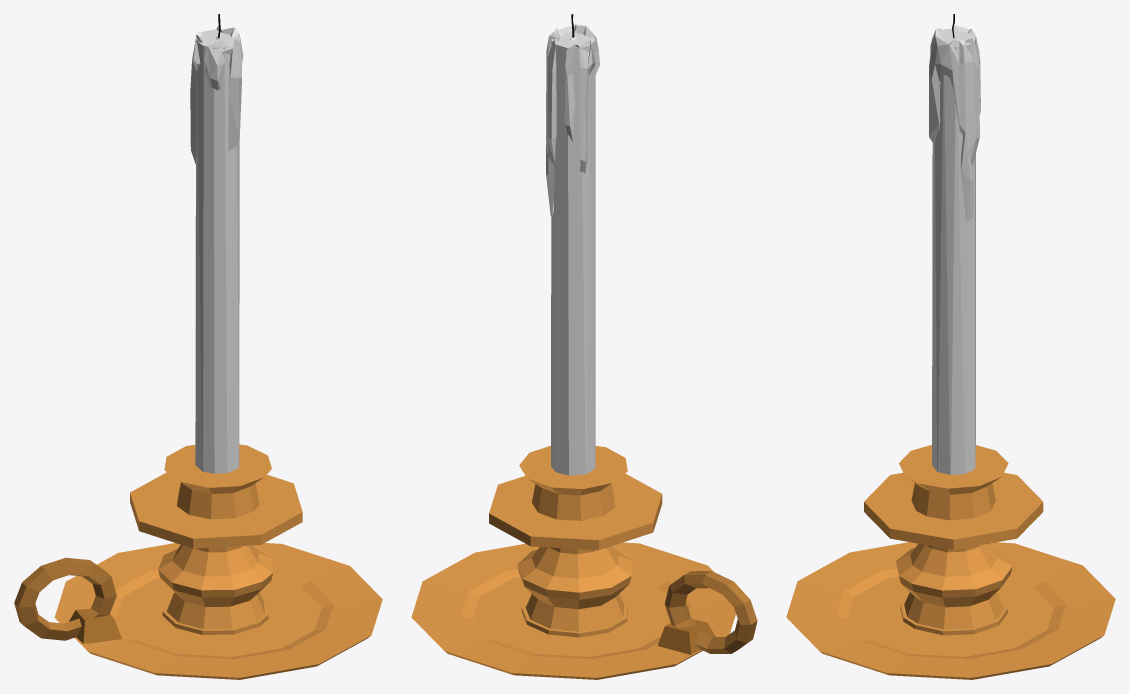
Rendered from Candlehandle.fbx.
3 views of the same model, side by side, from view 1: azimuth 30°, elevation 25°; view 2: azimuth 150°, elevation 25°; view 3: azimuth 270°, elevation 25° (orthographic).
Visible parts, largest first — view 1: Candle_holder, Ljus; view 2: Candle_holder, Ljus; view 3: Candle_holder, Ljus.
Part boxes in pixels (box(x1,y1,x2,y2)): Candle_holder: box(14, 444, 382, 679); Ljus: box(190, 14, 243, 473); Candle_holder: box(411, 445, 757, 679); Ljus: box(546, 14, 599, 475); Candle_holder: box(786, 445, 1115, 679); Ljus: box(929, 14, 980, 474).
Bounding box in the file's own units: 17.41 × 30.42 × 14.87.
